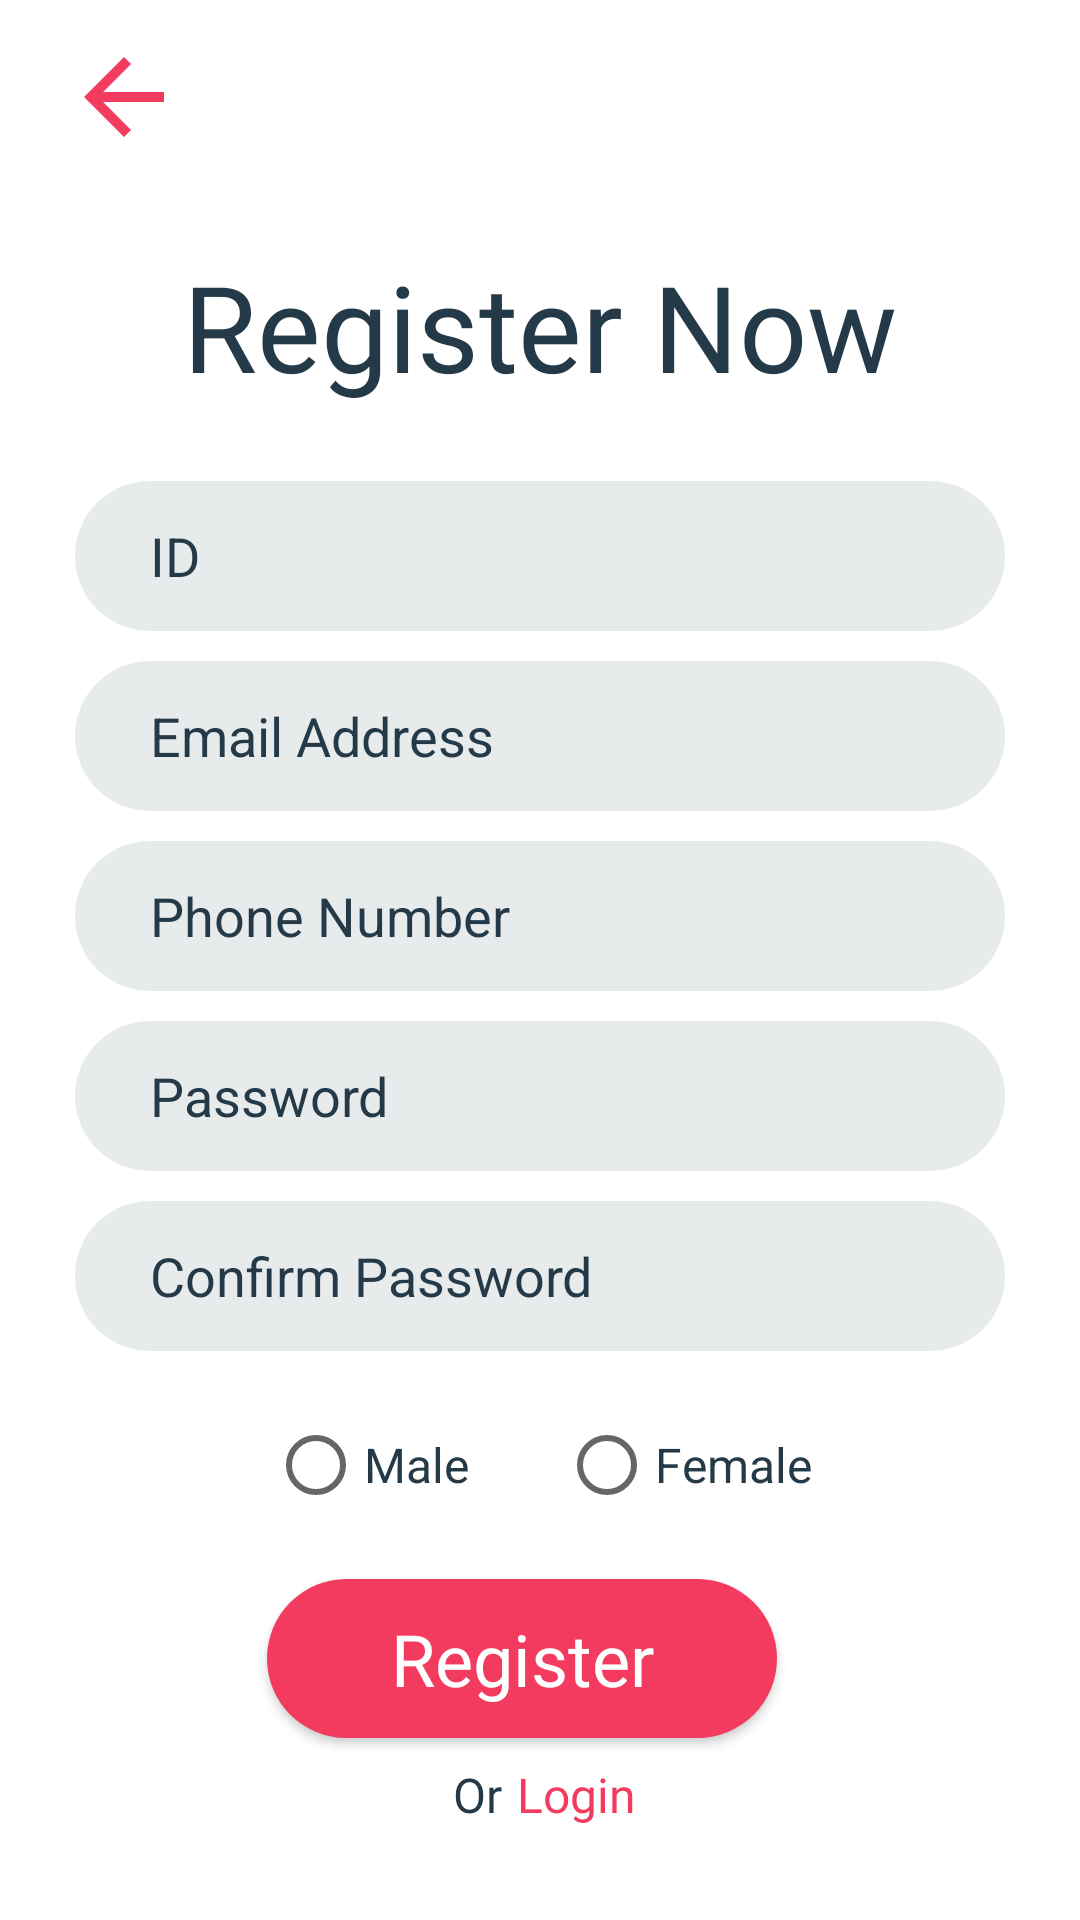

Icons on this 1080w x 1920h Android screen, each with its box as [x1, y1, x2, y2]:
back: [84, 57, 164, 137]
